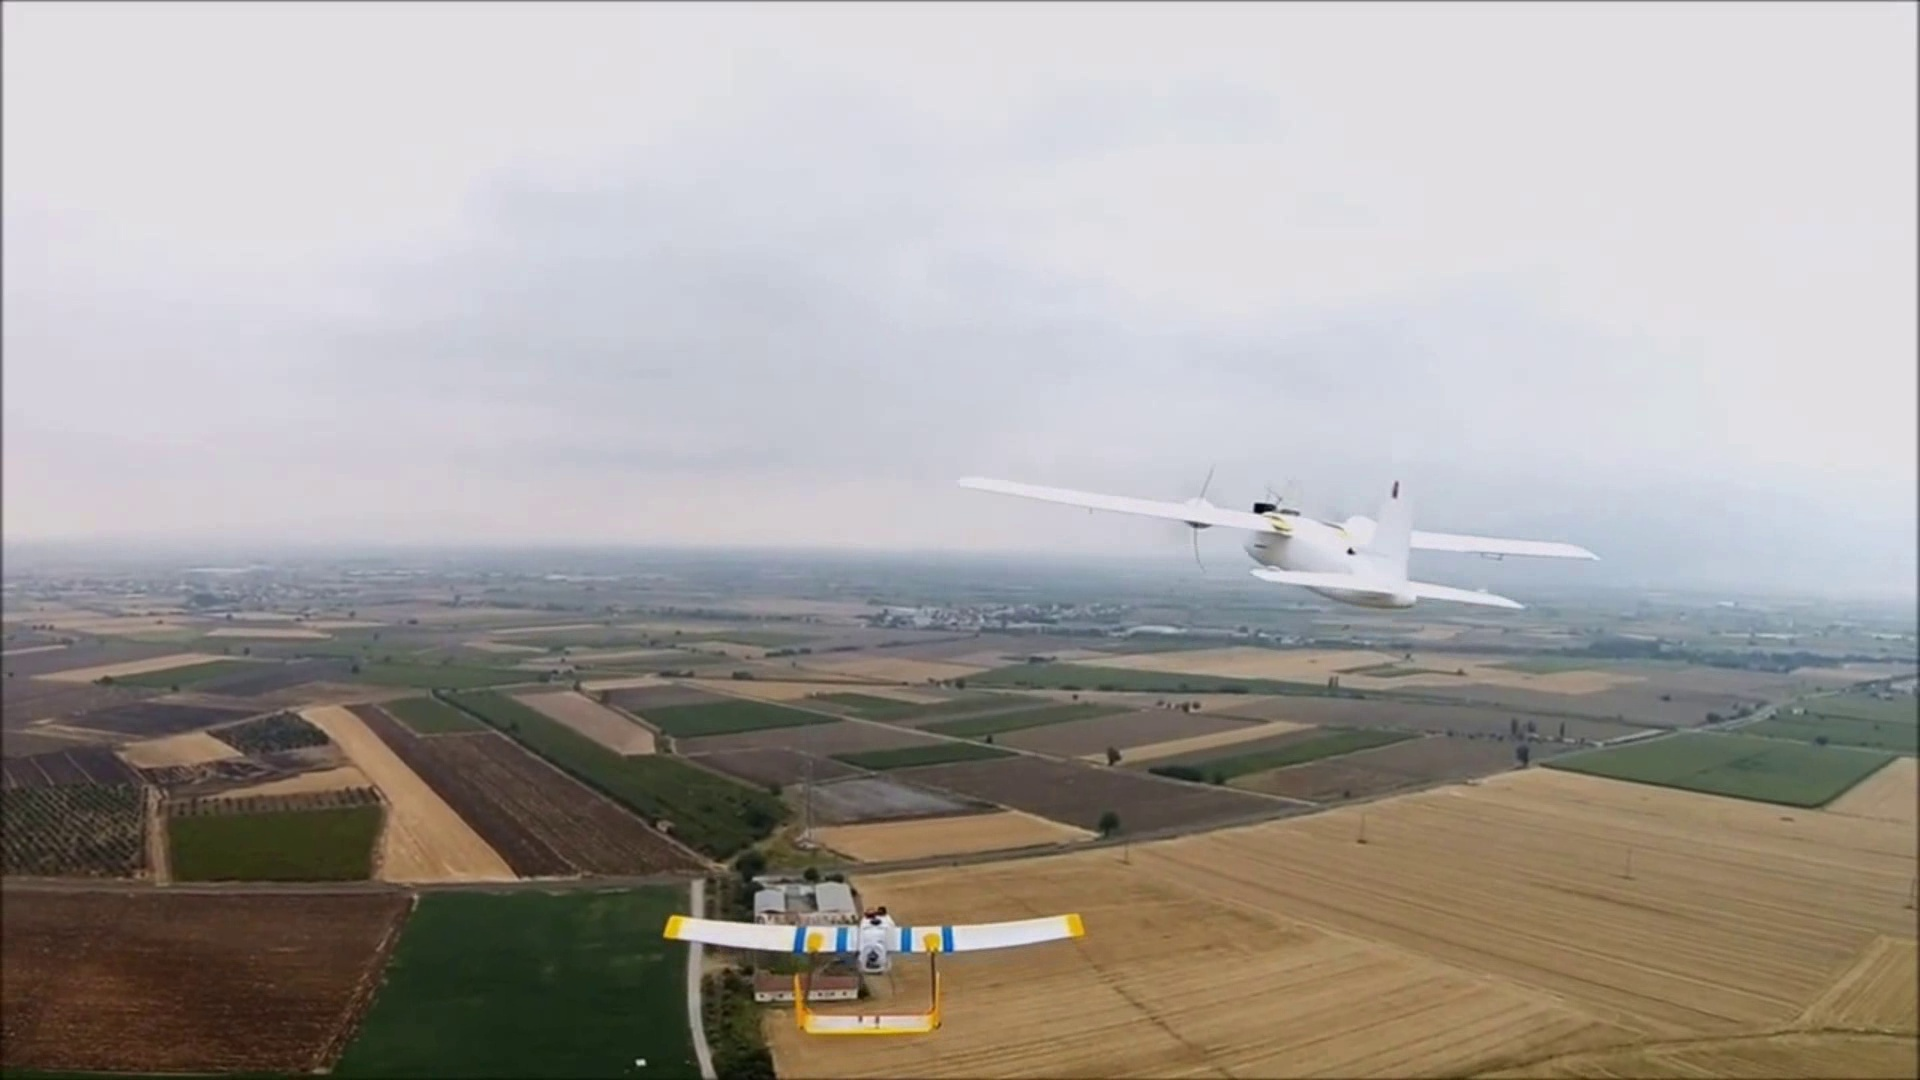airplane: (957, 463, 1597, 611)
